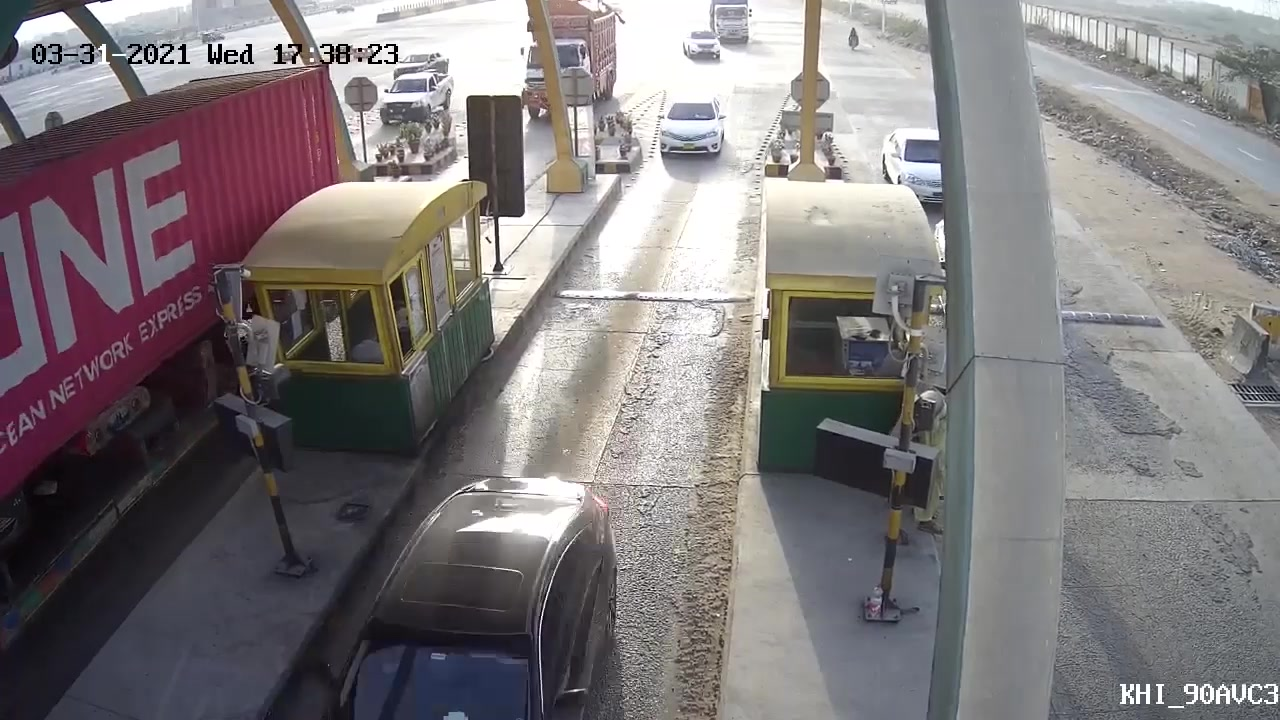F1: (648, 96, 730, 172)
